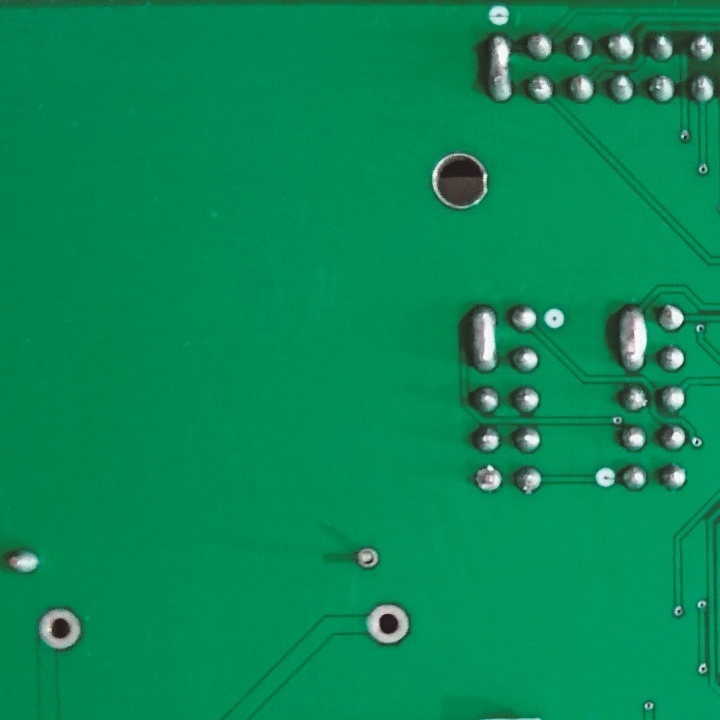F: (35, 606, 86, 655), (363, 600, 413, 648), (470, 462, 504, 498), (353, 545, 381, 573)
P: (481, 29, 516, 108), (463, 301, 498, 375), (616, 303, 651, 377)
